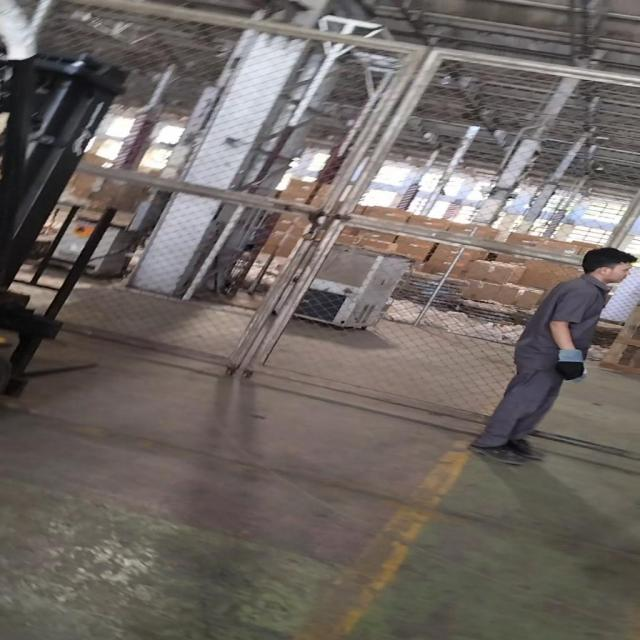Gloves-Detection: (547, 344, 593, 384)
